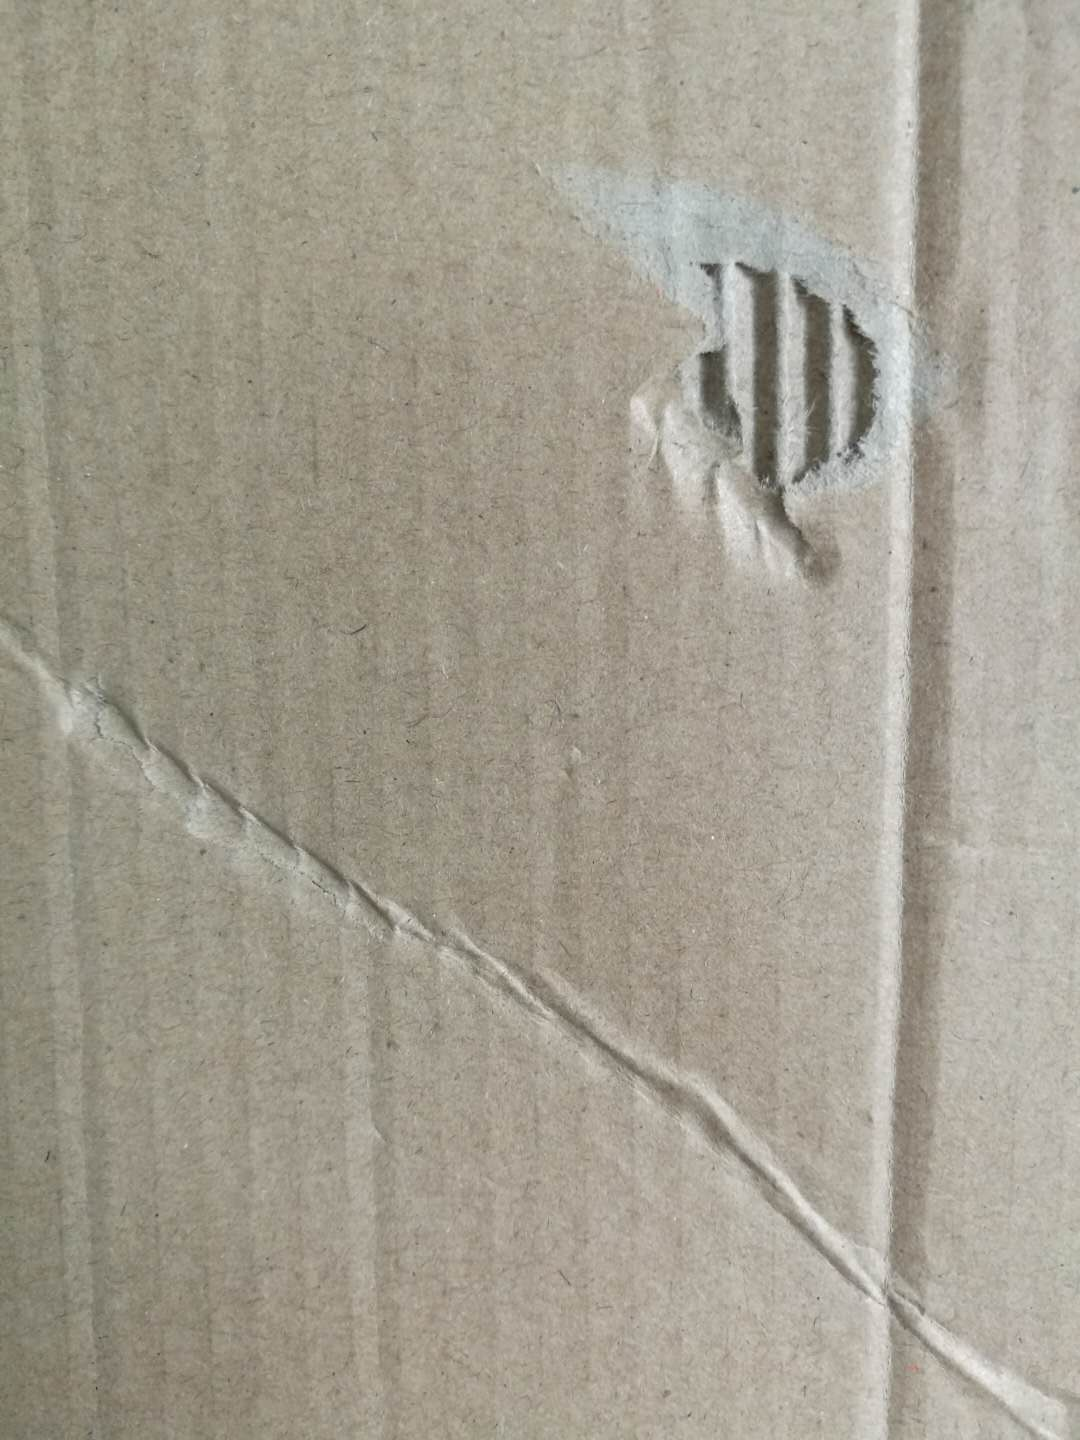defect: (2, 578, 1080, 1435), (802, 5, 1011, 1440), (505, 130, 985, 618), (28, 692, 154, 1439), (322, 888, 444, 1440)
